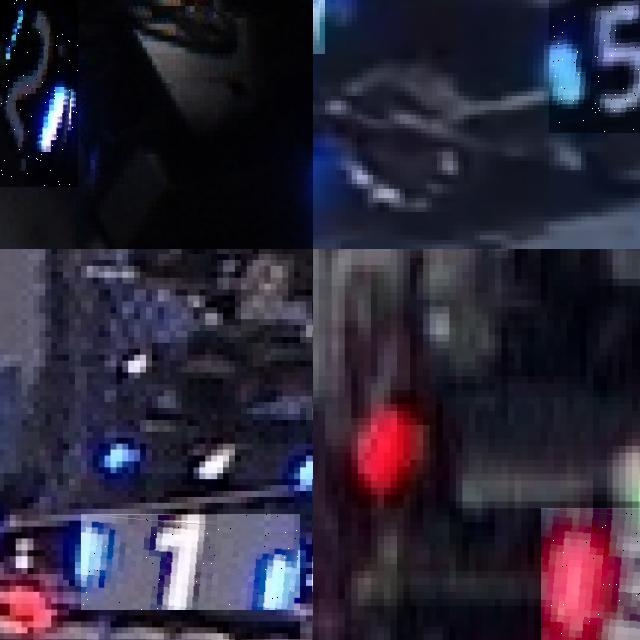B1: (81, 514, 300, 610)
B2: (0, 0, 78, 186)
B5: (549, 0, 640, 133)
R3: (540, 508, 640, 640)
